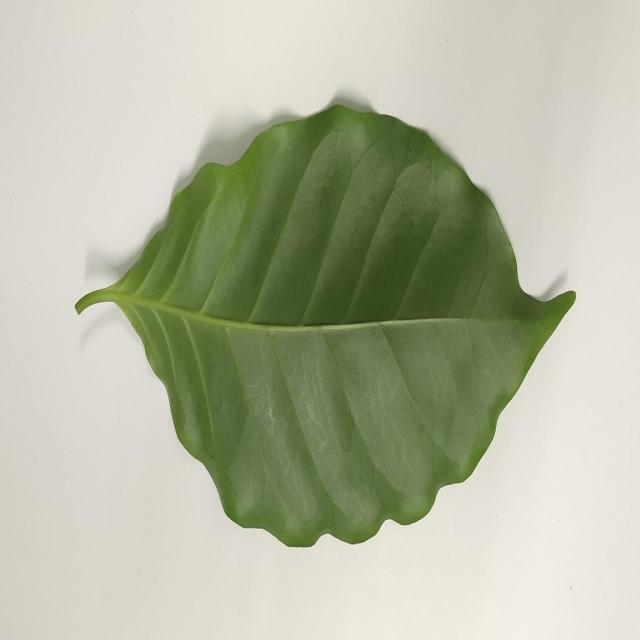Sanas: (73, 99, 578, 552)
